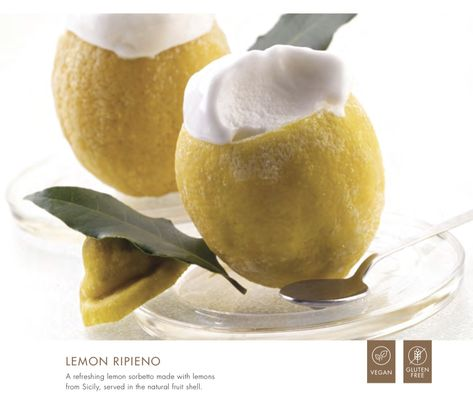salad: (279, 251, 379, 306)
taco: (174, 43, 387, 289)
